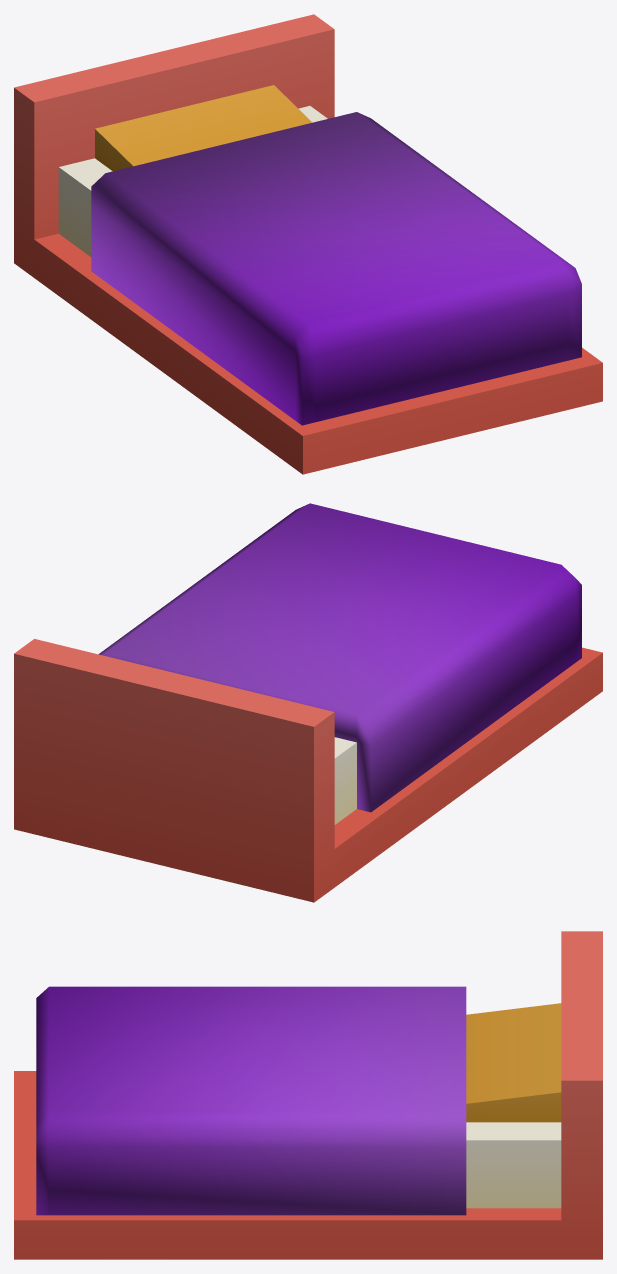
Rendered from Bed_Twin_cherry.fbx.
3 views of the same model, one above another, from view 1: azimuth 30°, elevation 25°; view 2: azimuth 150°, elevation 25°; view 3: azimuth 270°, elevation 25° (orthographic).
Parts seen in each view (by area): view 1: Bed_Twin_Blanket.cherry, Bed_Twin.cherry; view 2: Bed_Twin.cherry, Bed_Twin_Blanket.cherry; view 3: Bed_Twin_Blanket.cherry, Bed_Twin.cherry.
Boxes of the visible parts, box(x1,y1,x2,y2) form: Bed_Twin_Blanket.cherry: box(91, 112, 581, 425); Bed_Twin.cherry: box(14, 14, 602, 474); Bed_Twin.cherry: box(14, 639, 602, 902); Bed_Twin_Blanket.cherry: box(98, 503, 581, 812); Bed_Twin_Blanket.cherry: box(36, 986, 466, 1215); Bed_Twin.cherry: box(14, 931, 602, 1259).
Bounding box in the file's own units: 150 × 83.9 × 250.
